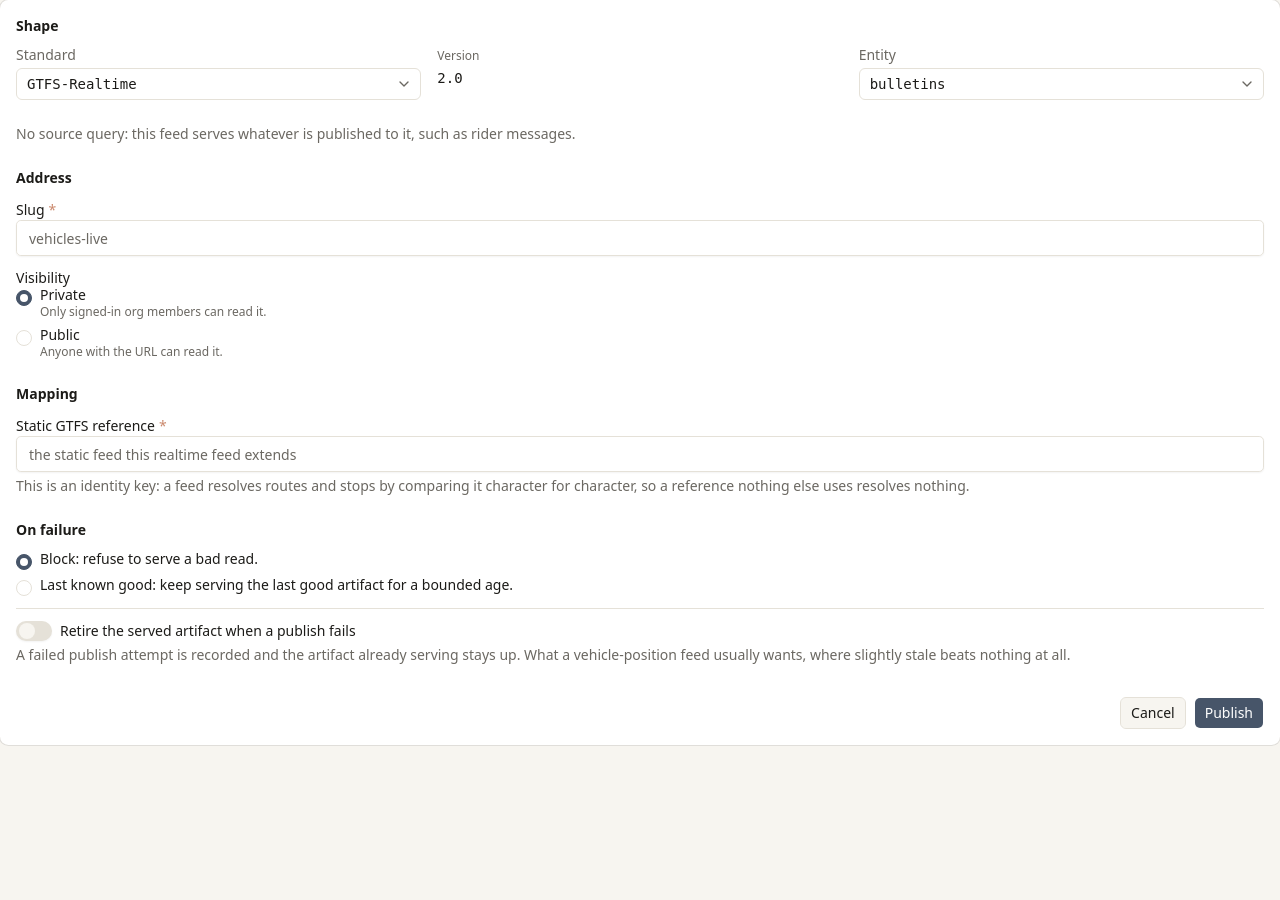
Scenario: the form follows the entity, not the standard › brings the source, the static reference and the map back when the entity changes
Click the dropdown named "entity".
click(908, 84)  # box [859,68,1264,100]
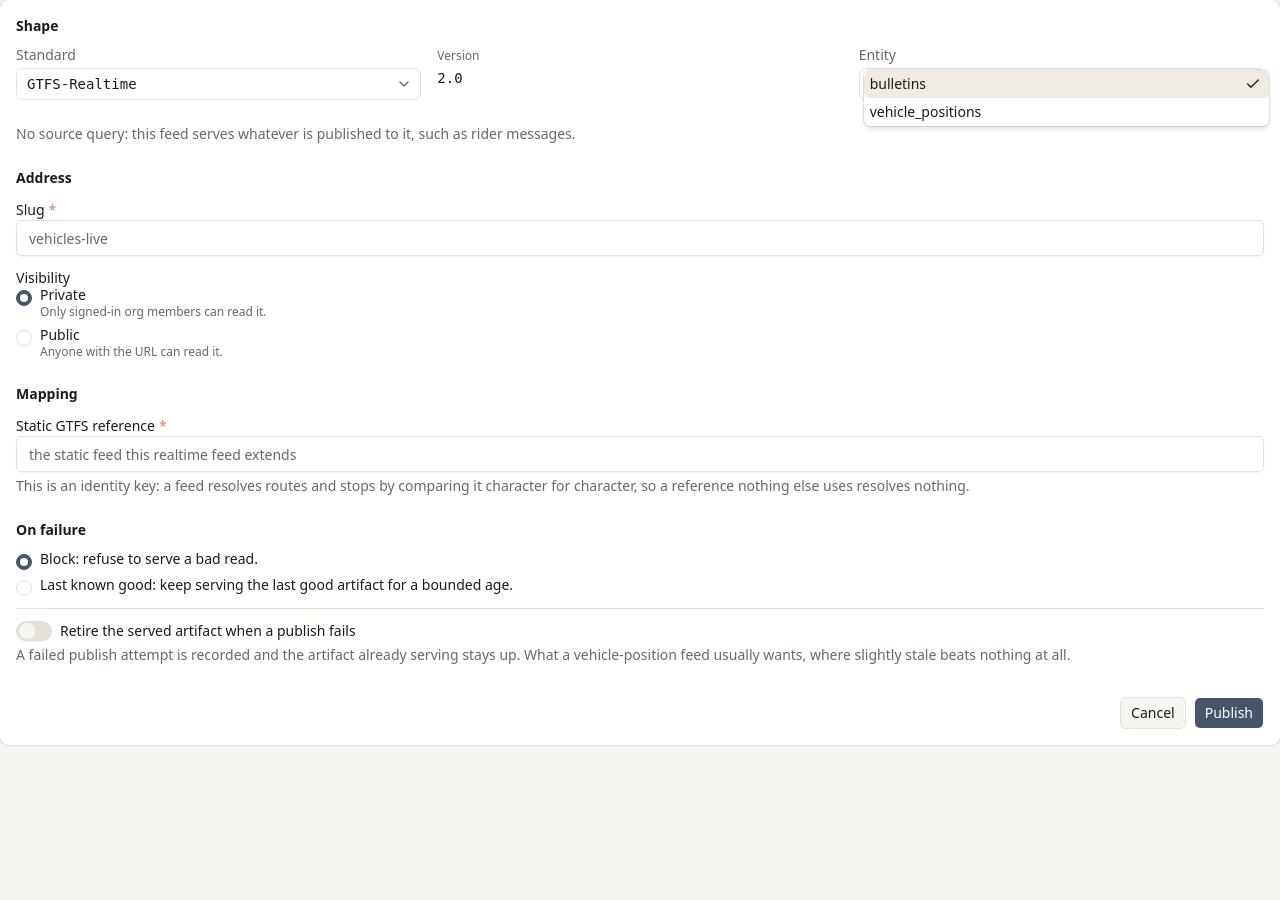
Click the option "vehicle_positions".
click(926, 112)  # box [870,102,981,121]
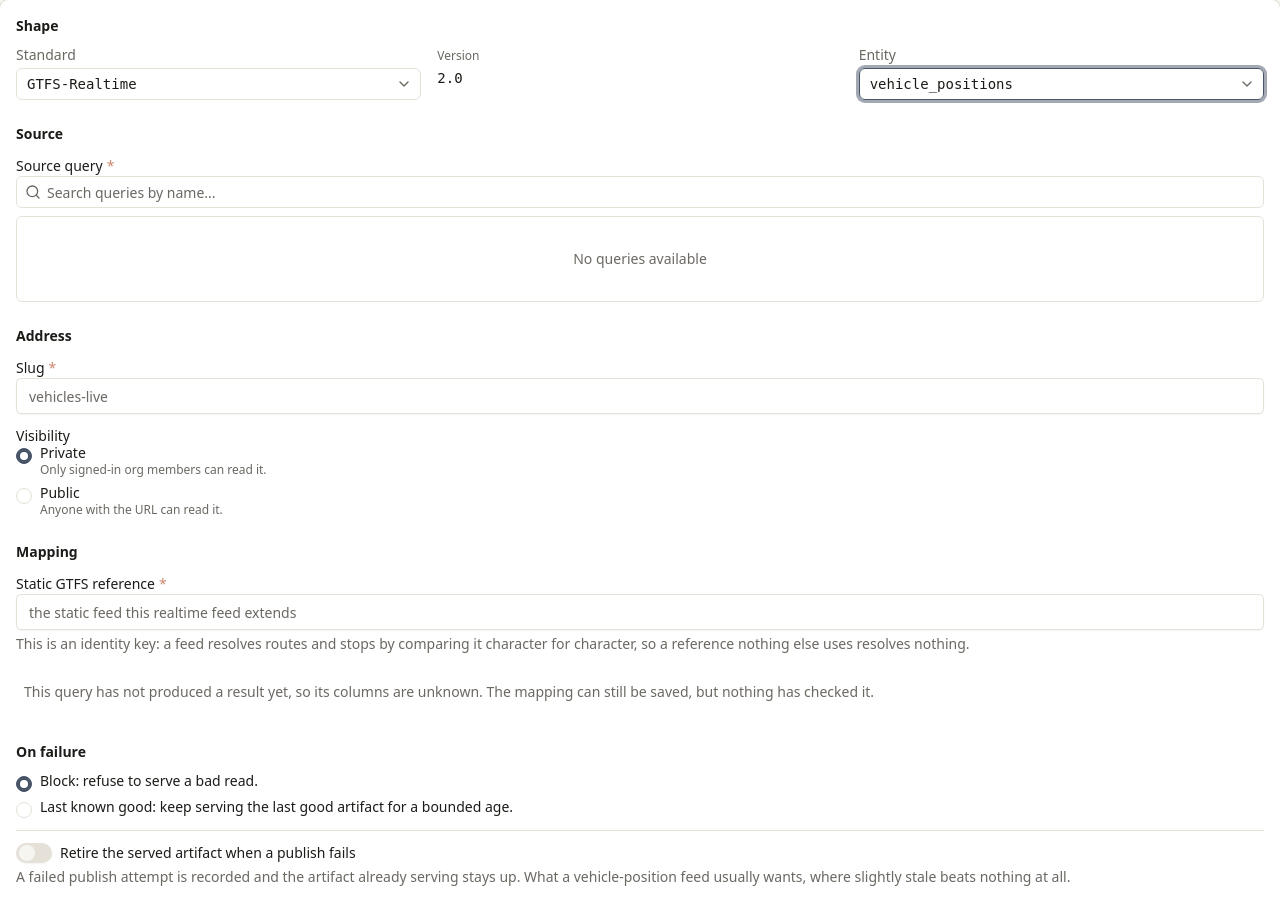
Expected: the text "Static GTFS reference" is shown, [16,574,155,593]
Now the heading "Source" is shown, box [16,124,63,143]
Now the table is shown, box [16,666,1264,718]
